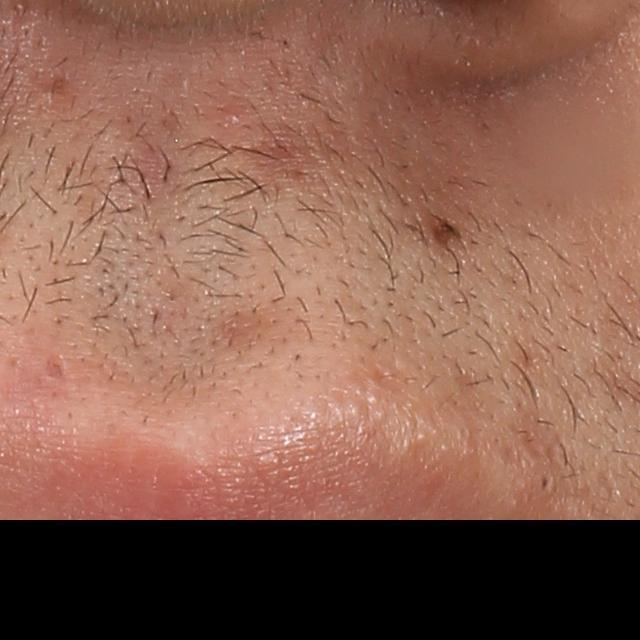nevus: (428, 208, 463, 251)
